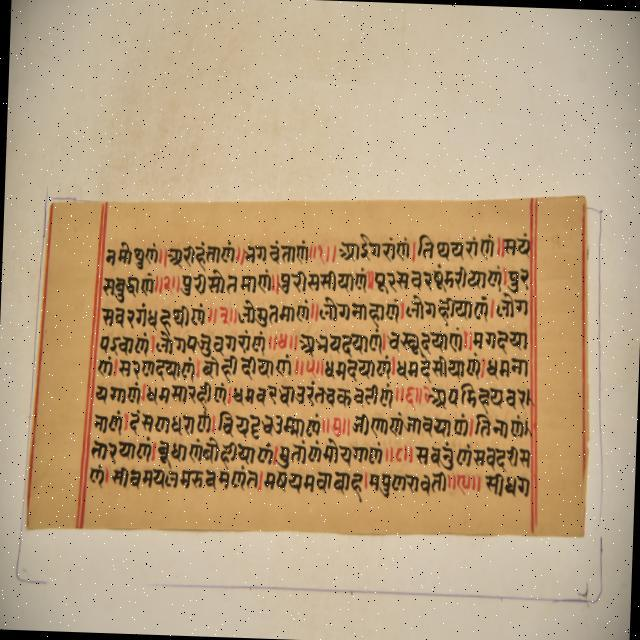text_paragraph: (23, 195, 584, 534)
